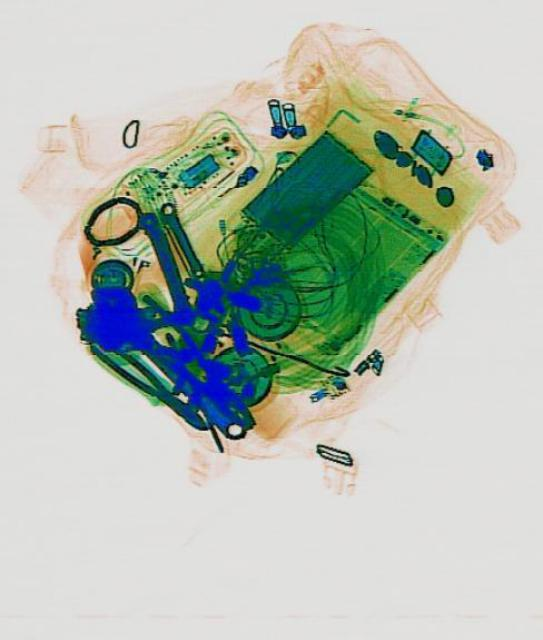Pliers: (84, 328, 211, 440)
Wrench: (72, 270, 260, 458)
